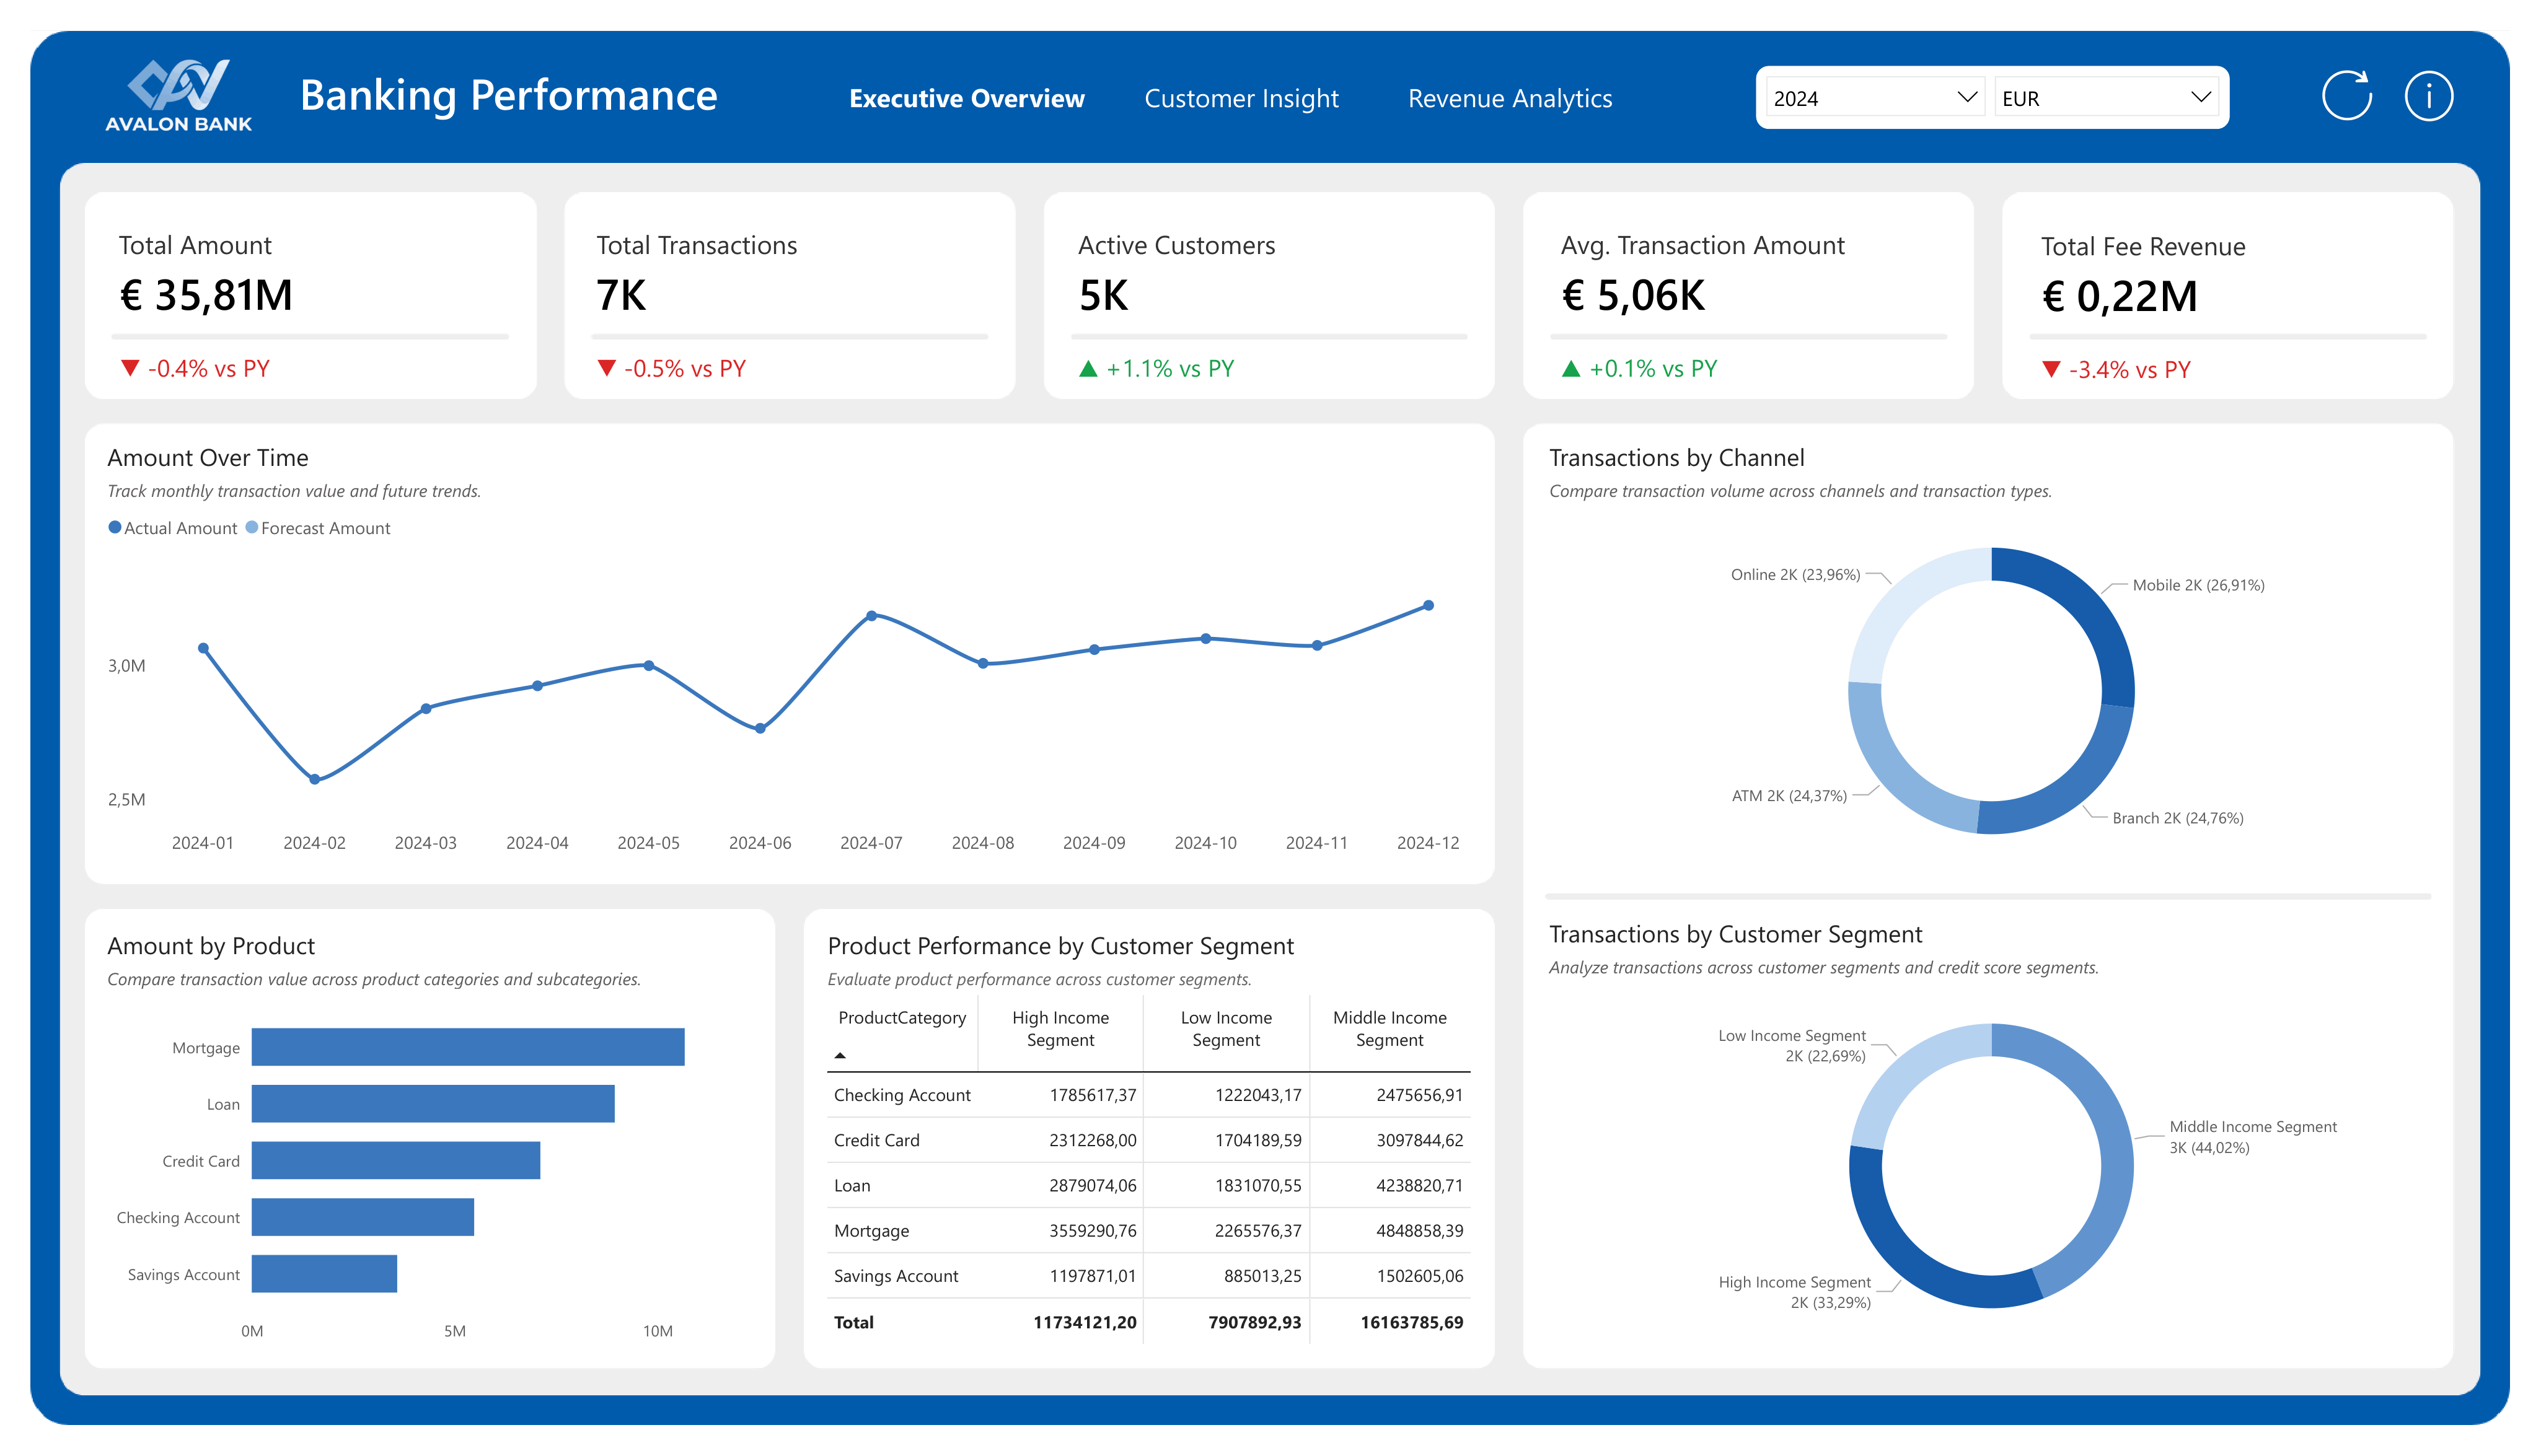

What the dashboard file says about the page in this screenshot:
{"tool":"powerbi","page":{"name":"Executive Overview","canvas":[1920,1080],"ordinal":0},"visuals":[{"type":"shape","box":[1335.5,27.1,367.4,48.9],"z":0},{"type":"cardVisual","fields":{"Data":[".Measures.Total Amount Display"]},"box":[39,123.4,354.9,162.3],"z":1000},{"type":"cardVisual","fields":{"Data":[".Measures.Total Transactions"]},"box":[409,123.1,354.7,162.9],"z":2000},{"type":"cardVisual","fields":{"Data":[".Measures.Active Customers"]},"box":[781.8,123.1,354.7,162.9],"z":3000},{"type":"cardVisual","fields":{"Data":[".Measures.Average Transaction Display"]},"box":[1156.4,123.1,349.3,162.9],"z":4000},{"type":"cardVisual","fields":{"Data":[".Measures.Total Fee Revenue Display"]},"box":[1528,124,350,162],"z":5000},{"type":"cardVisual","fields":{"Data":[".Measures.Total Amount YoY Label"]},"box":[39.8,217.2,354.7,85.1],"z":6000},{"type":"cardVisual","fields":{"Data":[".Measures.Total Transactions YoY Label"]},"box":[409,217.2,354.7,85.1],"z":7000},{"type":"cardVisual","fields":{"Data":[".Measures.Active Customers YoY Label"]},"box":[781.8,217.2,354.7,85.1],"z":8000},{"type":"cardVisual","fields":{"Data":[".Measures.Average Transaction YoY Label"]},"box":[1156.4,217.2,349.3,85.1],"z":9000},{"type":"cardVisual","fields":{"Data":[".Measures.Total Fee Revenue YoY Label"]},"box":[1528,218,350,84],"z":10000},{"type":"slicer","fields":{"Values":["Dim_Currency.Currency"]},"box":[1511.1,25.3,193.6,48.9],"z":11000},{"type":"slicer","fields":{"Values":["Dim_Calendar.Year"]},"box":[1333.7,25.3,190,47.1],"z":12000},{"type":"lineChart","title":"Amount Over Time","fields":{"Category":["Dim_Calendar.Year Month"],"Y":[".Measures.Actual Amount",".Measures.Forecast Amount"]},"box":[54.3,316.7,1067.7,331.2],"z":13000},{"type":"clusteredBarChart","title":"Amount by Product","fields":{"Category":["Fact_Transactions.ProductCategory","Fact_Transactions.ProductSubcategory"],"Y":[".Measures.Total Amount"]},"box":[54.3,694.9,510.3,331.2],"z":14000},{"type":"donutChart","title":"Transactions by Customer Segment","fields":{"Category":["Fact_Transactions.CustomerSegment","Fact_Transactions.Credit Score Segment"],"Y":[".Measures.Total Transactions"]},"box":[1170.9,685.9,694.9,340.2],"z":15000},{"type":"donutChart","title":"Transactions by Channel","fields":{"Y":[".Measures.Total Transactions"],"Category":["Fact_Transactions.Channel","Fact_Transactions.TransactionType"]},"box":[1170.9,316.7,694.9,342],"z":16000},{"type":"image","box":[1836.8,18.1,41.6,65.1],"z":17000},{"type":"image","box":[1774,16,40,68],"z":18000},{"type":"shape","box":[631,27.1,188.2,47.1],"z":19000},{"type":"shape","box":[844.1,27.1,188.2,47.1],"z":20000},{"type":"shape","box":[1052.2,27.1,188.2,47.1],"z":21000},{"type":"pivotTable","title":"Product Performance by Customer Segment","fields":{"Rows":["Fact_Transactions.ProductCategory"],"Values":[".Measures.Total Amount"],"Columns":["Fact_Transactions.CustomerSegment"]},"box":[611.7,694.9,510.3,343.8],"z":22000},{"type":"image","box":[25.3,0,177.3,106.8],"z":23000},{"type":"textbox","title":"Banking Performance","box":[202.7,25.3,394.5,50.7],"z":24000}]}

Visuals, with their boxes on the page's 1920x1080 design canvas (x1, y1, x2, y2). These are canvas units, not pixel positions in the 2541x1456 screenshot, which may show the page scaled, cropped or inside an application window:
shape: crop(1336, 27, 1703, 76)
cardVisual - .Measures.Total Amount Display: crop(39, 123, 394, 286)
cardVisual - .Measures.Total Transactions: crop(409, 123, 764, 286)
cardVisual - .Measures.Active Customers: crop(782, 123, 1136, 286)
cardVisual - .Measures.Average Transaction Display: crop(1156, 123, 1506, 286)
cardVisual - .Measures.Total Fee Revenue Display: crop(1528, 124, 1878, 286)
cardVisual - .Measures.Total Amount YoY Label: crop(40, 217, 394, 302)
cardVisual - .Measures.Total Transactions YoY Label: crop(409, 217, 764, 302)
cardVisual - .Measures.Active Customers YoY Label: crop(782, 217, 1136, 302)
cardVisual - .Measures.Average Transaction YoY Label: crop(1156, 217, 1506, 302)
cardVisual - .Measures.Total Fee Revenue YoY Label: crop(1528, 218, 1878, 302)
slicer - Dim_Currency.Currency: crop(1511, 25, 1705, 74)
slicer - Dim_Calendar.Year: crop(1334, 25, 1524, 72)
"Amount Over Time" lineChart: crop(54, 317, 1122, 648)
"Amount by Product" clusteredBarChart: crop(54, 695, 565, 1026)
"Transactions by Customer Segment" donutChart: crop(1171, 686, 1866, 1026)
"Transactions by Channel" donutChart: crop(1171, 317, 1866, 659)
image: crop(1837, 18, 1878, 83)
image: crop(1774, 16, 1814, 84)
shape: crop(631, 27, 819, 74)
shape: crop(844, 27, 1032, 74)
shape: crop(1052, 27, 1240, 74)
"Product Performance by Customer Segment" pivotTable: crop(612, 695, 1122, 1039)
image: crop(25, 0, 203, 107)
"Banking Performance" textbox: crop(203, 25, 597, 76)
